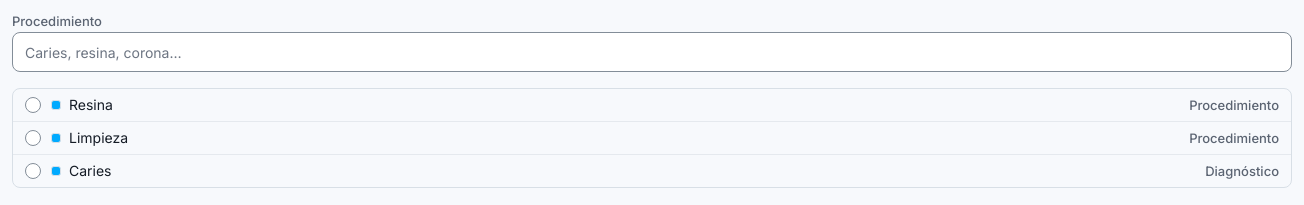
CatalogPicker › dice qué buscó cuando nada coincide, en vez de quedarse en blanco
The width and height of the screenshot is (1304, 205).
Type "zzz" into the search field named "buscar en el catálogo" at (652, 52), box x1=12 y1=32 x2=1292 y2=72
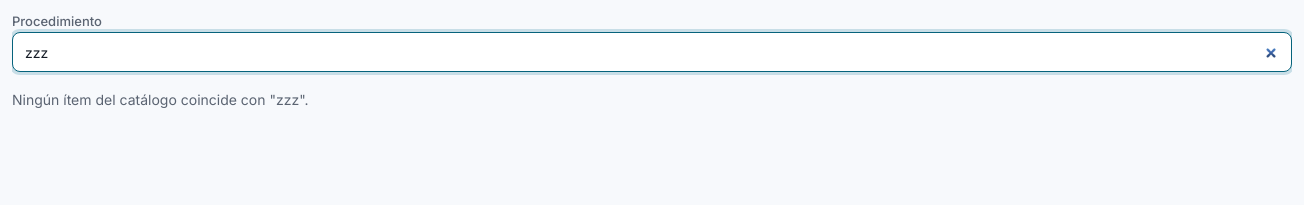
Check: the message shows "zzz", box x1=12 y1=91 x2=309 y2=108
